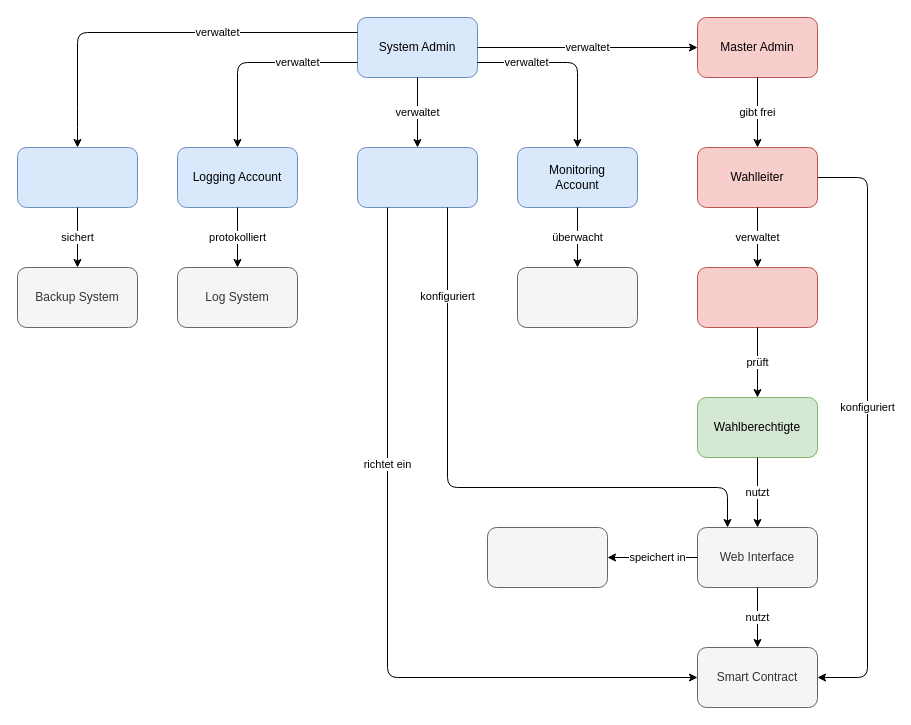
Some shapes in this 911 by 725 pixel diagram are drawn without their labels. The shapes that lost their labels are listed below. From the top down, each one's centre as x and y in pixels, then its label:
[77,177]: Backup Account
[417,177]: System Account
[577,297]: Monitoring System
[757,297]: Wahlhelfer
[547,557]: Datenbank
